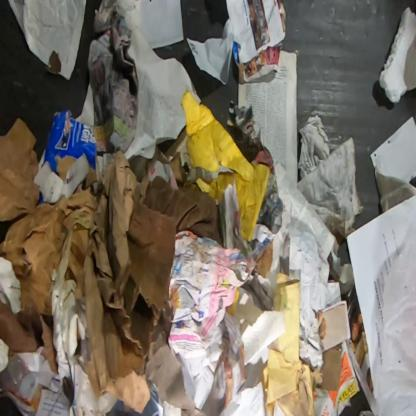cardboard: (33, 110, 97, 205), (252, 236, 273, 279)
rigid_plastic: (0, 353, 31, 395)
soft_plastic: (377, 223, 415, 415)
